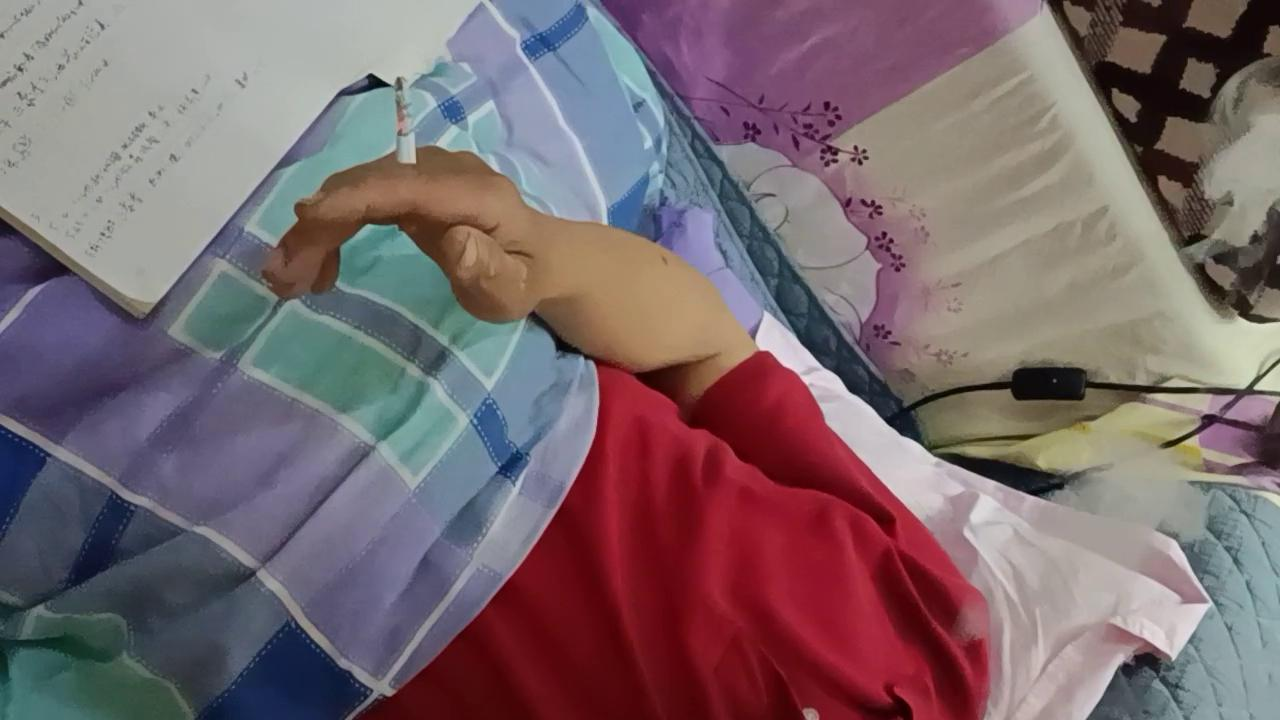smoke: (394, 75, 418, 233)
